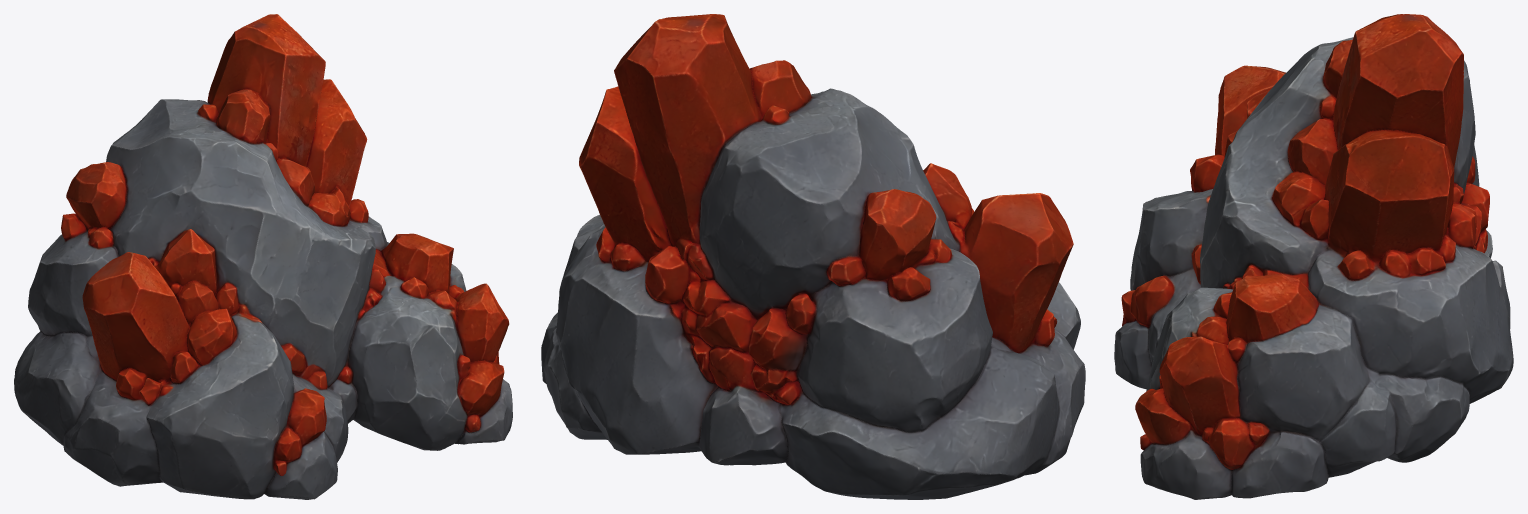
Rendered from IronOreLarge.fbx.
The picture shows the model from 3 angles, left to right: view 1: azimuth 30°, elevation 25°; view 2: azimuth 150°, elevation 25°; view 3: azimuth 270°, elevation 25°; orthographic projection. The views are drawn at different scales.
Parts seen in each view (by area): view 1: model; view 2: model; view 3: model.
Part boxes in pixels (x1,y1,x2,y2): model: [14, 14, 512, 499]; model: [541, 14, 1085, 499]; model: [1114, 14, 1513, 499].
Size of the model in its own units: 175 by 150 by 133.
Materials: 1 (1 with a texture image).
